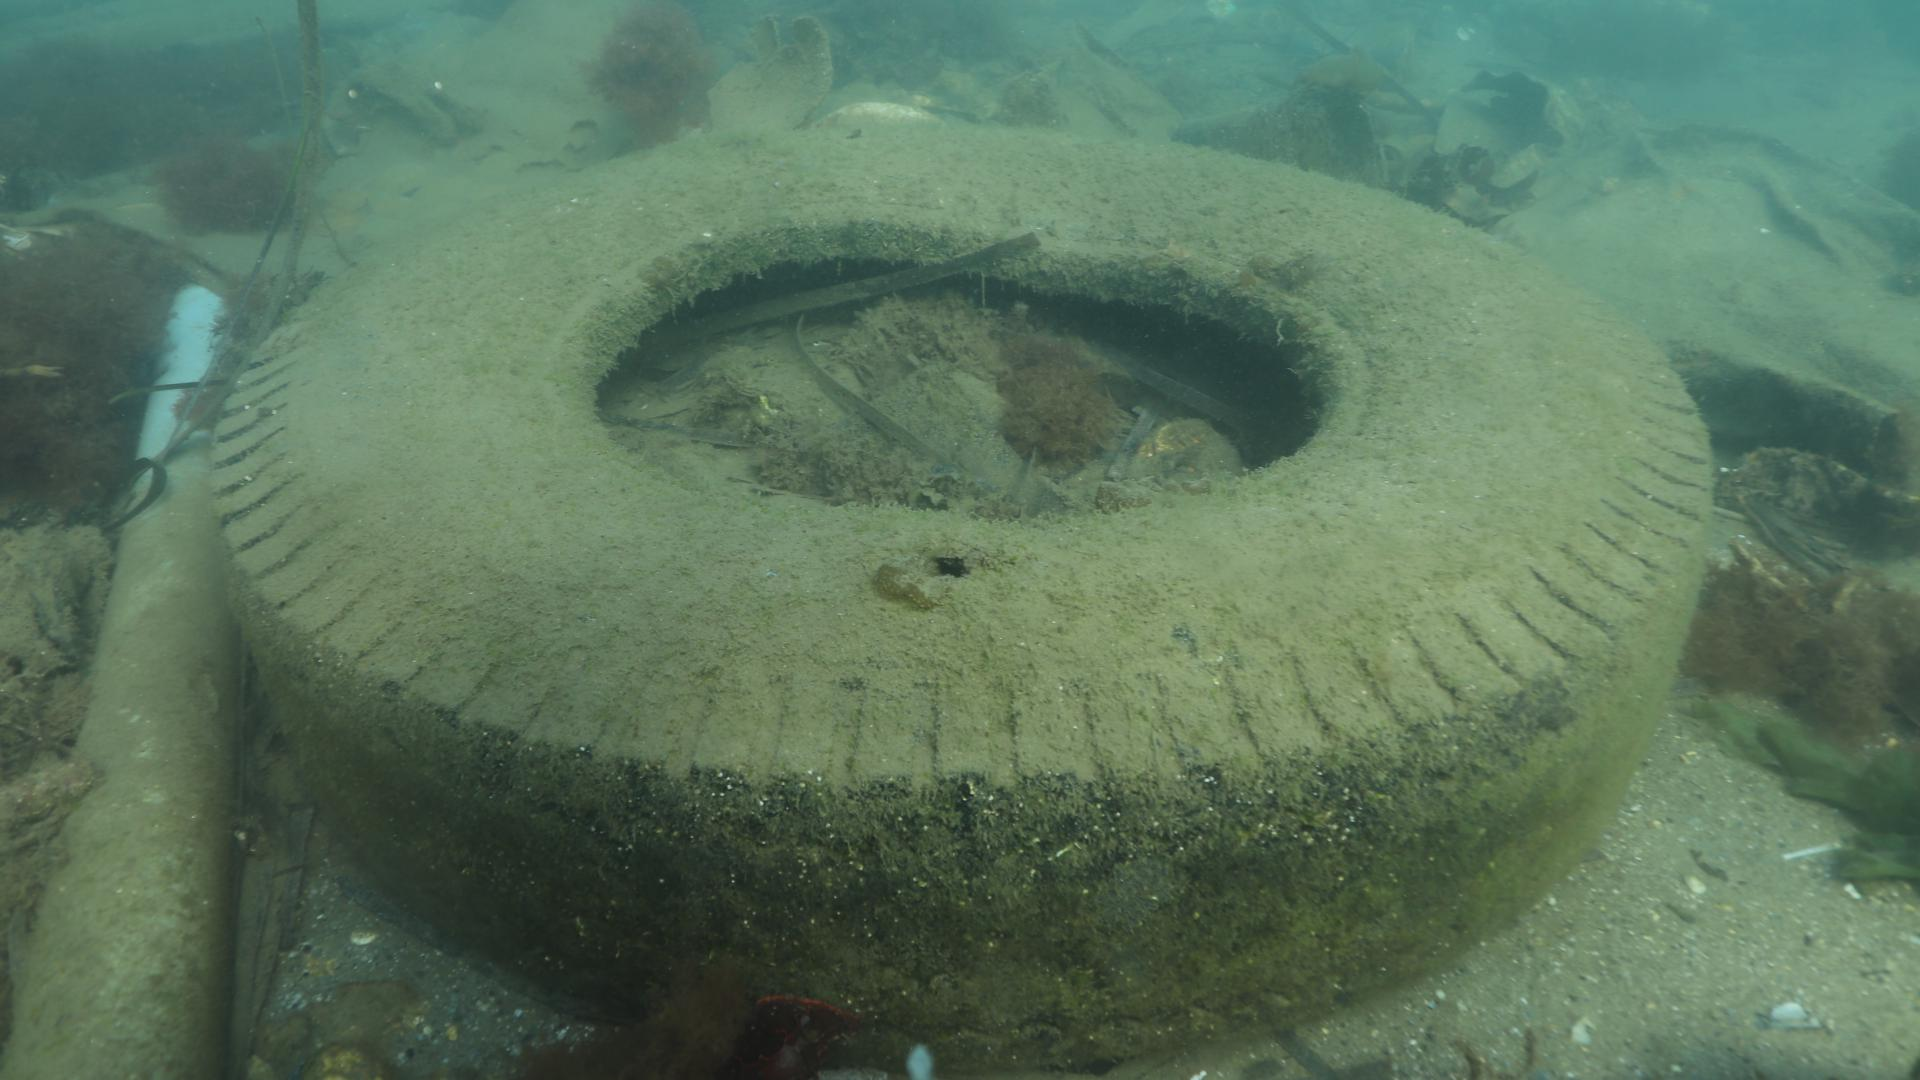tire: (211, 123, 1716, 1080)
